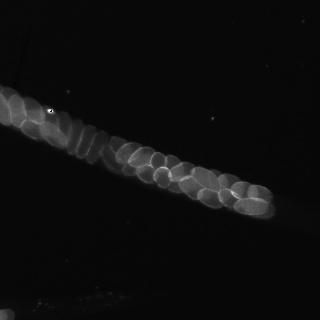embryo: (85, 130, 109, 163), (39, 120, 67, 148), (192, 166, 222, 192), (100, 145, 125, 175), (76, 124, 96, 160), (121, 155, 152, 176), (39, 106, 60, 137), (67, 119, 84, 155), (7, 94, 26, 126), (22, 98, 45, 124), (234, 198, 268, 215), (179, 176, 203, 200), (21, 120, 49, 140), (56, 112, 71, 149), (110, 137, 132, 162), (168, 163, 196, 182), (129, 148, 155, 168), (115, 143, 142, 162), (248, 200, 274, 219), (218, 189, 242, 209), (199, 189, 223, 209), (168, 176, 196, 193), (232, 182, 258, 200), (248, 186, 272, 204), (218, 174, 242, 192), (165, 156, 183, 180), (153, 167, 172, 188), (136, 165, 159, 182), (150, 153, 168, 170)
